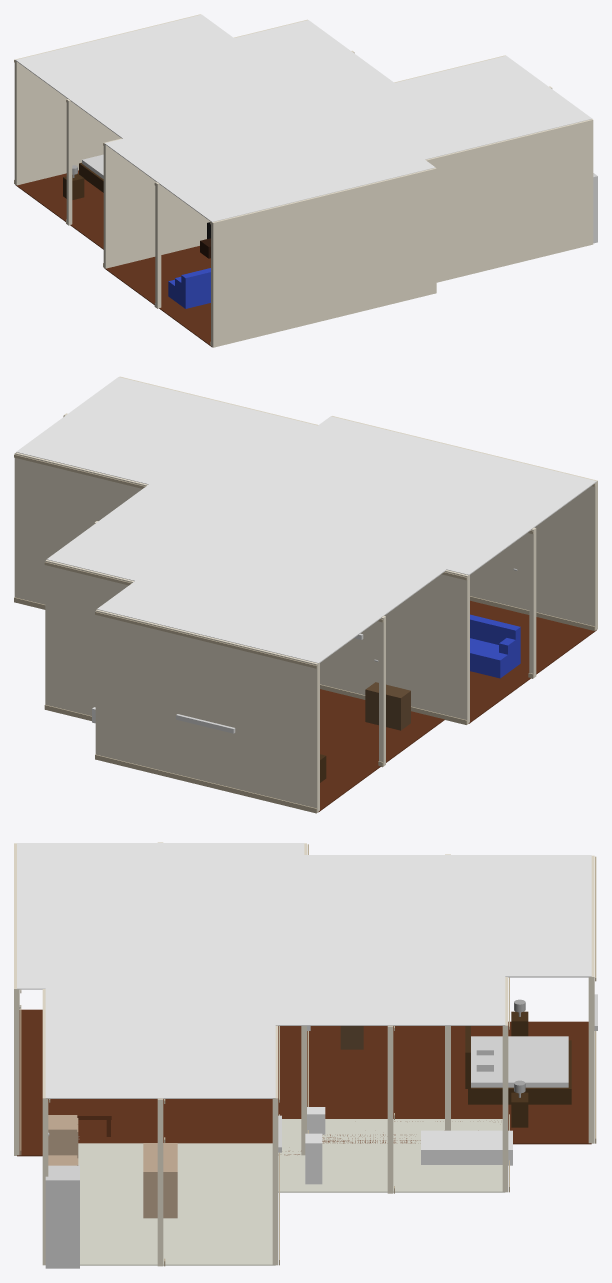
File: ultra_detailed_9188.obj
3 renders of one model, top to bottom at view 1: azimuth 30°, elevation 25°; view 2: azimuth 150°, elevation 25°; view 3: azimuth 270°, elevation 25°, orthographic. The views are drawn at different scales.
Visible parts, largest first — view 1: Living_Room_front_wall_Living_Room_front_wall_material, Living_Room_ceiling_Living_Room_ceiling_material, Kitchen_front_wall_Kitchen_front_wall_material, Master_Bedroom_ceiling_Master_Bedroom_ceiling_material, Kitchen_ceiling_Kitchen_ceiling_material, Bathroom_ceiling_Bathroom_ceiling_material, Living_Room_back_wall_Living_Room_back_wall_material, Master_Bedroom_back_wall_Master_Bedroom_back_wall_material, Living_Room_floor_Living_Room_floor_material, Master_Bedroom_front_wall_Master_Bedroom_front_wall_material, Master_Bedroom_floor_Master_Bedroom_floor_material, Master_Bedroom_left_wall_Master_Bedroom_left_wall_material (+3 smaller); view 2: Living_Room_ceiling_Living_Room_ceiling_material, Master_Bedroom_back_wall_Master_Bedroom_back_wall_material, Master_Bedroom_ceiling_Master_Bedroom_ceiling_material, Kitchen_ceiling_Kitchen_ceiling_material, Living_Room_back_wall_Living_Room_back_wall_material, Bathroom_ceiling_Bathroom_ceiling_material, Living_Room_front_wall_Living_Room_front_wall_material, Kitchen_back_wall_Kitchen_back_wall_material, Bathroom_back_wall_Bathroom_back_wall_material, Master_Bedroom_floor_Master_Bedroom_floor_material, Master_Bedroom_front_wall_Master_Bedroom_front_wall_material, Living_Room_floor_Living_Room_floor_material (+8 smaller); view 3: Living_Room_ceiling_Living_Room_ceiling_material, Master_Bedroom_ceiling_Master_Bedroom_ceiling_material, Kitchen_ceiling_Kitchen_ceiling_material, Kitchen_floor_Kitchen_floor_material, Master_Bedroom_floor_Master_Bedroom_floor_material, Living_Room_floor_Living_Room_floor_material, Bathroom_floor_Bathroom_floor_material, Bathroom_ceiling_Bathroom_ceiling_material, Master_Bedroom_bed_mattress_Master_Bedroom_bed_bedding, Kitchen_fridge_Kitchen_fridge_material, Bathroom_tub_Bathroom_toilet_material, Kitchen_island_Kitchen_island_material (+15 smaller).
Boxes of the visible parts, bbox=[...] form: Living_Room_front_wall_Living_Room_front_wall_material: bbox=[211, 168, 436, 347]; Living_Room_ceiling_Living_Room_ceiling_material: bbox=[104, 89, 435, 222]; Kitchen_front_wall_Kitchen_front_wall_material: bbox=[425, 119, 593, 282]; Master_Bedroom_ceiling_Master_Bedroom_ceiling_material: bbox=[15, 14, 295, 138]; Kitchen_ceiling_Kitchen_ceiling_material: bbox=[320, 55, 592, 163]; Bathroom_ceiling_Bathroom_ceiling_material: bbox=[197, 20, 394, 109]; Living_Room_back_wall_Living_Room_back_wall_material: bbox=[103, 138, 209, 268]; Master_Bedroom_back_wall_Master_Bedroom_back_wall_material: bbox=[14, 14, 200, 185]; Living_Room_floor_Living_Room_floor_material: bbox=[104, 246, 211, 346]; Master_Bedroom_front_wall_Master_Bedroom_front_wall_material: bbox=[124, 159, 207, 263]; Master_Bedroom_floor_Master_Bedroom_floor_material: bbox=[15, 170, 103, 249]; Master_Bedroom_left_wall_Master_Bedroom_left_wall_material: bbox=[66, 99, 72, 225]; Living_Room_ceiling_Living_Room_ceiling_material: bbox=[203, 416, 596, 575]; Master_Bedroom_back_wall_Master_Bedroom_back_wall_material: bbox=[95, 609, 319, 812]; Master_Bedroom_ceiling_Master_Bedroom_ceiling_material: bbox=[97, 516, 446, 663]; Kitchen_ceiling_Kitchen_ceiling_material: bbox=[16, 377, 338, 500]; Living_Room_back_wall_Living_Room_back_wall_material: bbox=[320, 570, 469, 724]; Bathroom_ceiling_Bathroom_ceiling_material: bbox=[46, 484, 268, 591]; Living_Room_front_wall_Living_Room_front_wall_material: bbox=[331, 416, 597, 630]; Kitchen_back_wall_Kitchen_back_wall_material: bbox=[14, 452, 147, 604]; Bathroom_back_wall_Bathroom_back_wall_material: bbox=[45, 560, 134, 715]; Master_Bedroom_floor_Master_Bedroom_floor_material: bbox=[318, 689, 444, 812]; Master_Bedroom_front_wall_Master_Bedroom_front_wall_material: bbox=[320, 574, 445, 714]; Living_Room_floor_Living_Room_floor_material: bbox=[468, 600, 596, 723]; Living_Room_ceiling_Living_Room_ceiling_material: bbox=[17, 843, 304, 989]; Master_Bedroom_ceiling_Master_Bedroom_ceiling_material: bbox=[304, 855, 591, 977]; Kitchen_ceiling_Kitchen_ceiling_material: bbox=[45, 976, 275, 1098]; Kitchen_floor_Kitchen_floor_material: bbox=[78, 1143, 275, 1265]; Master_Bedroom_floor_Master_Bedroom_floor_material: bbox=[307, 1021, 591, 1144]; Living_Room_floor_Living_Room_floor_material: bbox=[17, 1009, 301, 1156]; Bathroom_floor_Bathroom_floor_material: bbox=[278, 1119, 505, 1192]; Bathroom_ceiling_Bathroom_ceiling_material: bbox=[275, 976, 505, 1025]; Master_Bedroom_bed_mattress_Master_Bedroom_bed_bedding: bbox=[471, 1036, 568, 1087]; Kitchen_fridge_Kitchen_fridge_material: bbox=[45, 1165, 79, 1268]; Bathroom_tub_Bathroom_toilet_material: bbox=[421, 1130, 512, 1165]; Kitchen_island_Kitchen_island_material: bbox=[143, 1143, 177, 1218].
Bounding box in the file's own units: 10.7 × 3.57 × 10.16.
